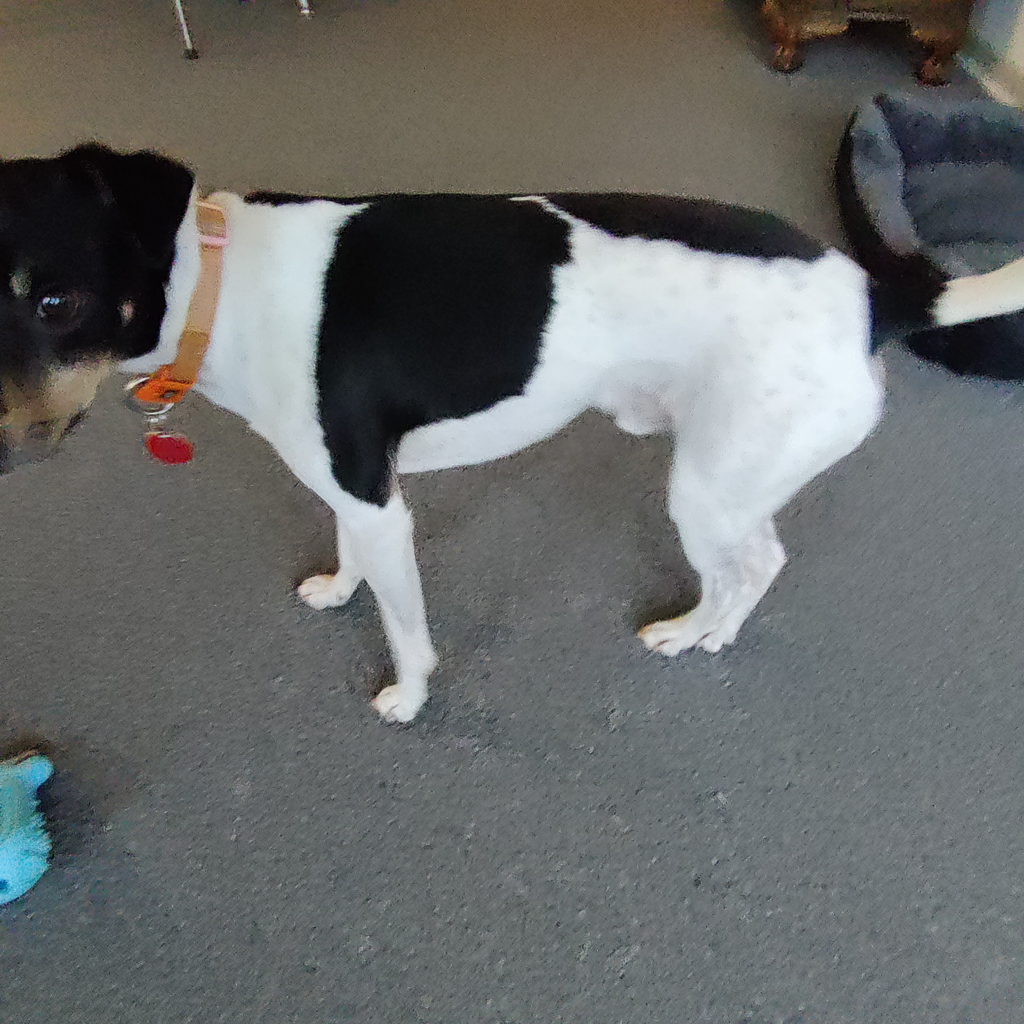Dog: (0, 102, 1024, 739)
